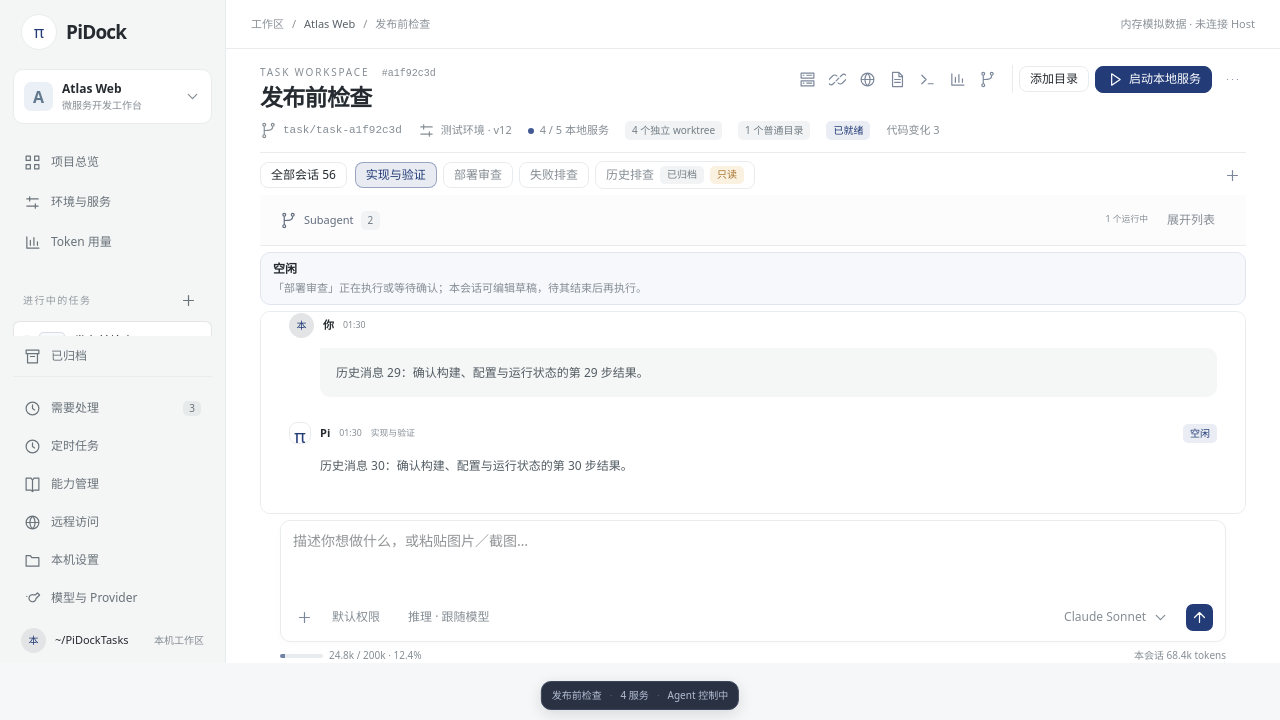
Test: #15 terminal panel on the real channel › names a blank env row key and source in the plan instead of an unnamed `=value`
(page scrolled)
Check: the heading "发布前检查" is shown, box [260,81,372,113]
Click the button named "终端" at (928, 79), box [914,65,942,93]
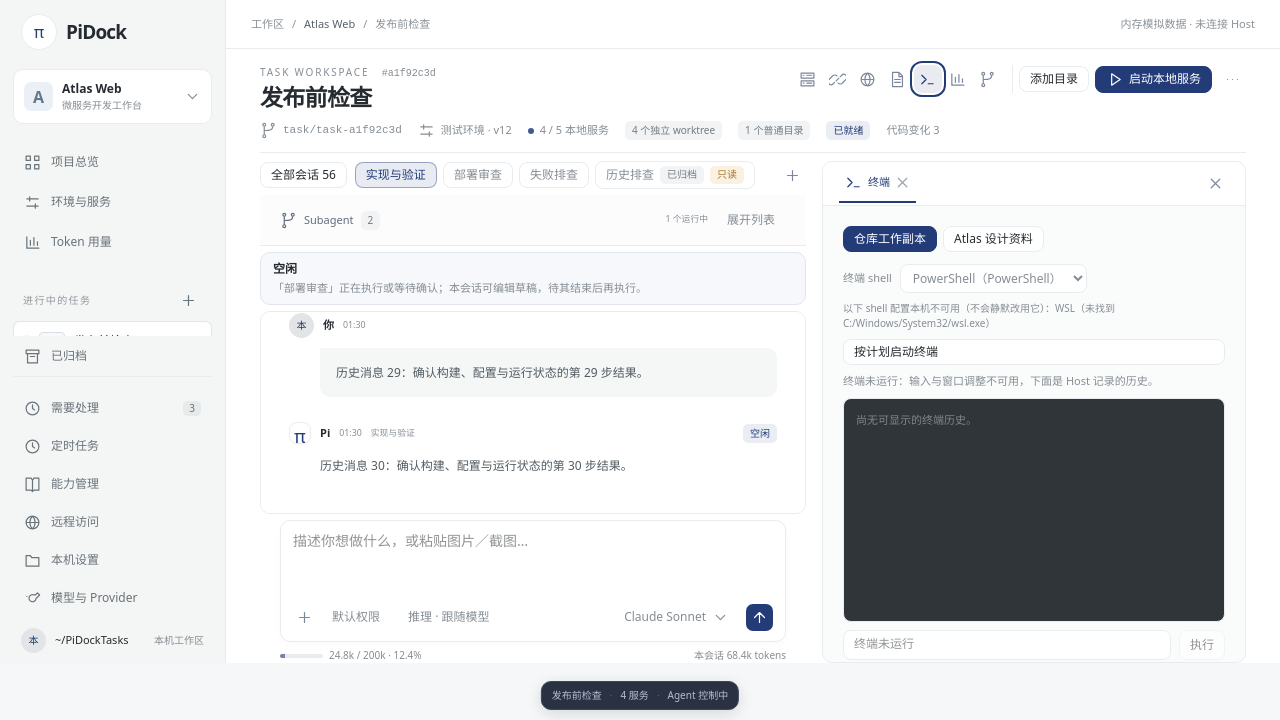
Click the button "按计划启动终端" at (896, 352), box [843,339,1225,365]
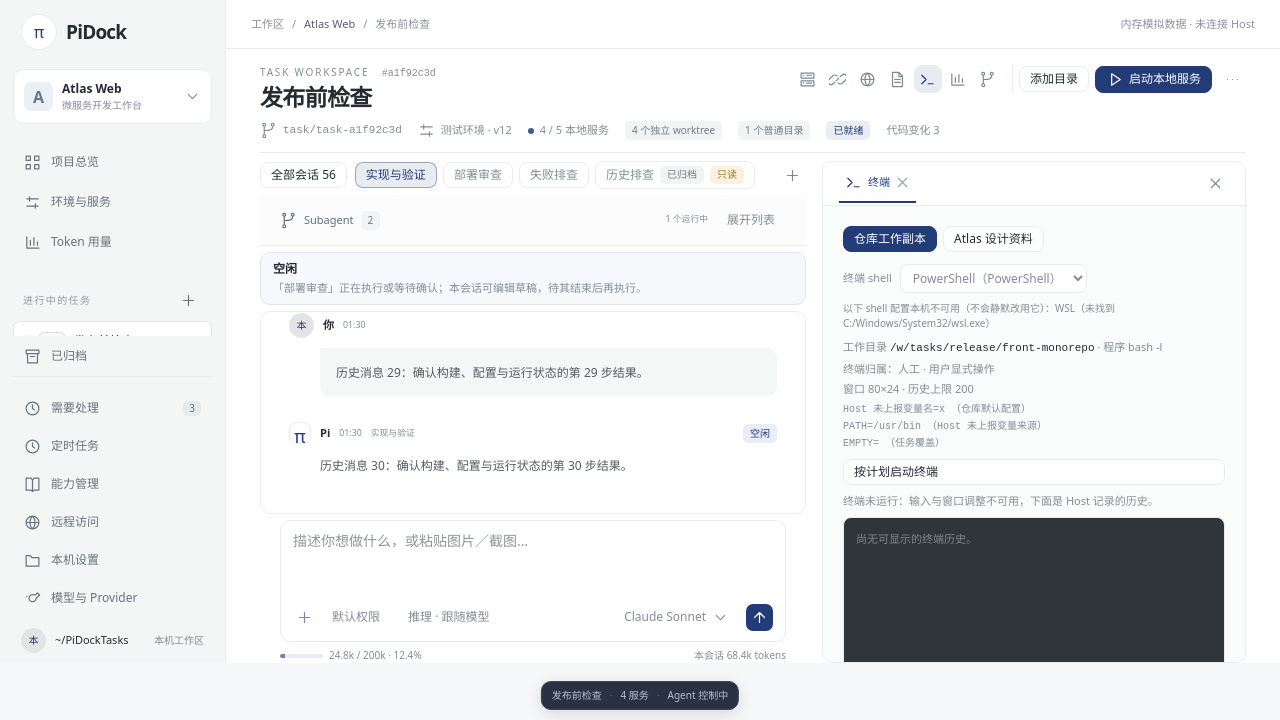
Check: the list item with test id "terminal-plan-env" reads "Host 未上报变量名=x （仓库默认配置）", box [843,404,1031,414]
Check: the list item with test id "terminal-plan-env" reads "PATH=/usr/bin （Host 未上报变量来源）", box [843,420,1047,432]
Check: the list item with test id "terminal-plan-env" reads "EMPTY= （任务覆盖）", box [843,438,945,448]
